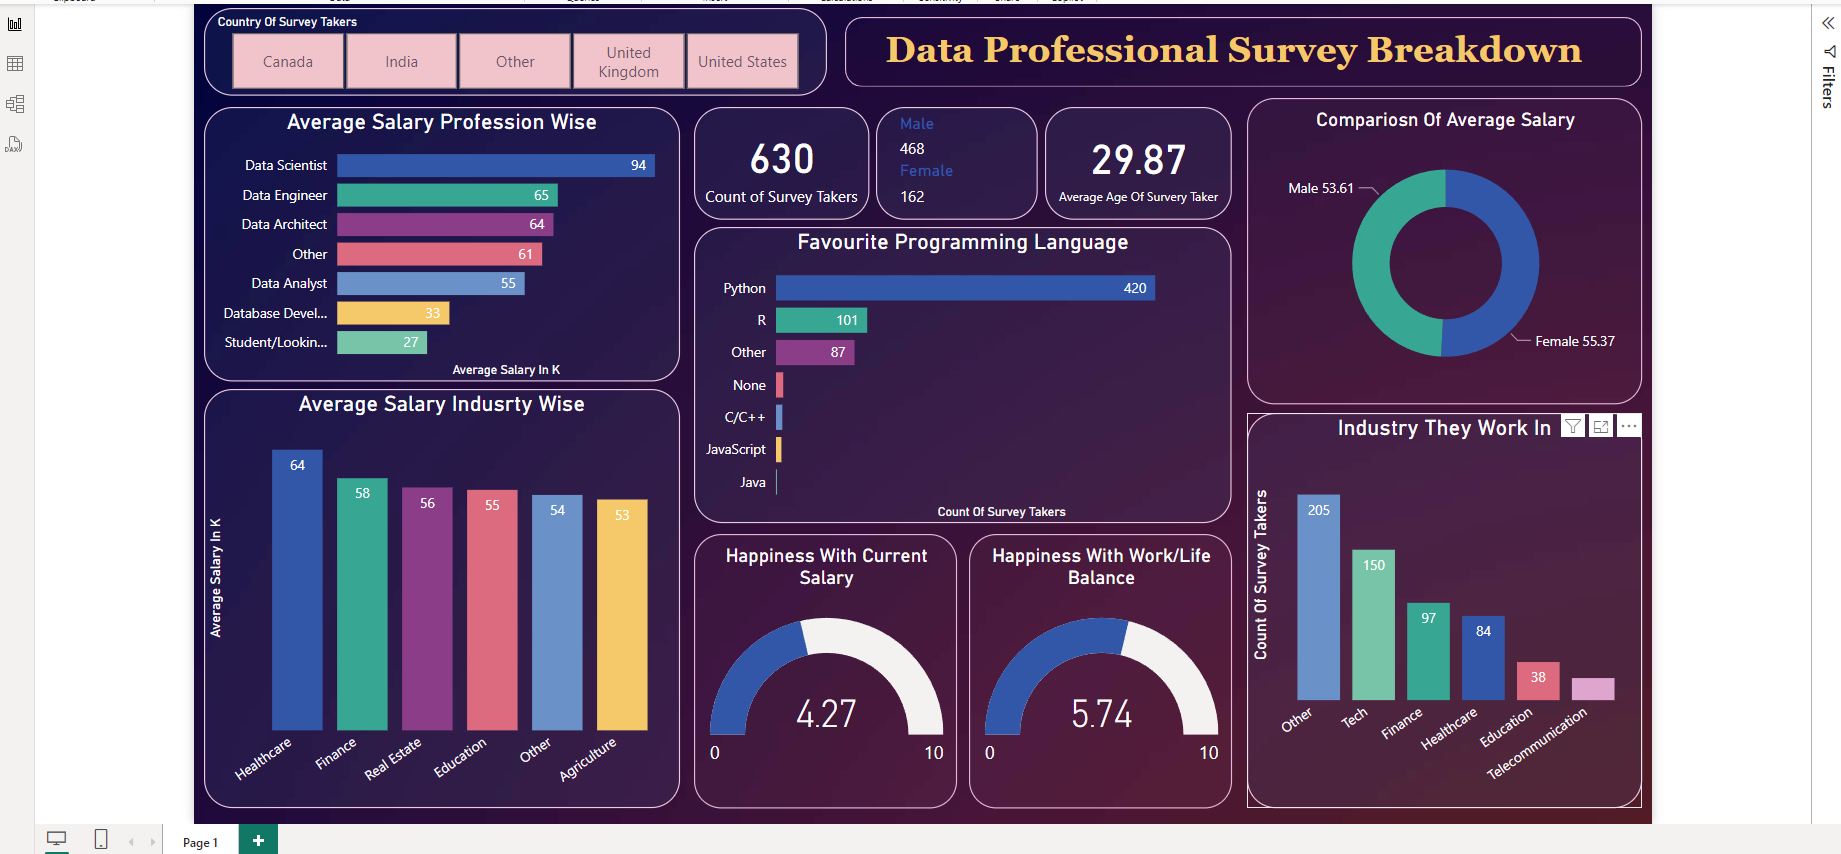

This screenshot's page, from the dashboard's own definition file:
{"tool":"powerbi","page":{"name":"Page 1","canvas":[1280,720],"ordinal":0},"visuals":[{"type":"textbox","box":[592.3,16.3,641.1,49.9],"z":0},{"type":"shape","box":[571.6,11.4,699.8,61.5],"z":1000},{"type":"card","fields":{"Values":["CountNonNull(Data Professional Survey.Unique ID)"]},"box":[439,90.4,153.7,99.2],"z":2000},{"type":"card","fields":{"Values":["Avg(Data Professional Survey.Q10 - Current Age)"]},"box":[747.2,90.4,164.2,99.2],"z":3000},{"type":"barChart","title":"Average Salary Profession Wise","fields":{"Category":["Data Professional Survey.Q1 - Which Title Best Fits your Current Role?"],"Y":["Avg(Data Professional Survey.Average Salary)"],"Series":["Data Professional Survey.Q1 - Which Title Best Fits your Current Role?"]},"box":[8.7,90,417.6,240.8],"z":4000},{"type":"barChart","title":"Favourite Programming Language","fields":{"Category":["Data Professional Survey.Q5 - Favorite Programming Language"],"Y":["CountNonNull(Data Professional Survey.Unique ID)"],"Series":["Data Professional Survey.Q5 - Favorite Programming Language"]},"box":[439,195.8,472.4,259.9],"z":5000},{"type":"slicer","fields":{"Values":["Data Professional Survey.Q11 - Which Country do you live in?"]},"box":[8.7,3.3,546.7,77],"z":6000},{"type":"gauge","title":"Happiness With Current Salary","fields":{"Y":["Avg(Data Professional Survey.Q6 - How Happy are you in your Current Position with the following? (Salary))2"],"MinValue":["Min(Data Professional Survey.Q6 - How Happy are you in your Current Position with the following? (Salary))"],"MaxValue":["Max(Data Professional Survey.Q6 - How Happy are you in your Current Position with the following? (Salary))"]},"box":[439.3,465.4,231.1,240.8],"z":7000},{"type":"gauge","title":"Happiness With Work/Life Balance","fields":{"Y":["Avg(Data Professional Survey.Q6 - How Happy are you in your Current Position with the following? (Work/Life Balance))"],"MinValue":["Min(Data Professional Survey.Q6 - How Happy are you in your Current Position with the following? (Work/Life Balance))"],"MaxValue":["Max(Data Professional Survey.Q6 - How Happy are you in your Current Position with the following? (Work/Life Balance))"],"TargetValue":["Sum(Data Professional Survey.Q6 - How Happy are you in your Current Position with the following? (Work/Life Balance))"]},"box":[680.1,465.4,231.1,240.8],"z":8000},{"type":"multiRowCard","fields":{"Values":["Data Professional Survey.Unique ID","Data Professional Survey.Q9 - Male/Female?"]},"box":[598.8,90.4,142.2,99.2],"z":9000},{"type":"columnChart","title":"Industry They Work In","fields":{"Category":["Data Professional Survey.Q4 - What Industry do you work in?"],"Y":["CountNonNull(Data Professional Survey.Unique ID)"],"Series":["Data Professional Survey.Q4 - What Industry do you work in?"]},"box":[924.2,359.1,347.1,347.1],"z":10000},{"type":"donutChart","title":"Compariosn Of Average Salary","fields":{"Y":["Avg(Data Professional Survey.Average Salary)"],"Category":["Data Professional Survey.Q9 - Male/Female?"]},"box":[924.2,82.4,347.1,269],"z":11000},{"type":"columnChart","title":"Average Salary Indusrty Wise","fields":{"Category":["Data Professional Survey.Q4 - What Industry do you work in?"],"Y":["Avg(Data Professional Survey.Average Salary)"],"Series":["Data Professional Survey.Q4 - What Industry do you work in?"]},"box":[8.7,338.4,417.6,367.7],"z":12000}]}

Visuals, with their boxes in screenshot pixels (x1, y1, x2, y2):
textbox: 870, 9, 1619, 68
shape: 846, 4, 1663, 76
card - CountNonNull(Data Professional Survey.Unique ID): 691, 96, 870, 212
card - Avg(Data Professional Survey.Q10 - Current Age): 1051, 96, 1243, 212
"Average Salary Profession Wise" barChart: 188, 96, 676, 377
"Favourite Programming Language" barChart: 691, 219, 1243, 523
slicer - Data Professional Survey.Q11 - Which Country do you live in?: 188, 0, 827, 84
"Happiness With Current Salary" gauge: 691, 534, 961, 816
"Happiness With Work/Life Balance" gauge: 972, 534, 1242, 816
multiRowCard - Data Professional Survey.Unique ID x Data Professional Survey.Q9 - Male/Female?: 877, 96, 1044, 212
"Industry They Work In" columnChart: 1258, 410, 1663, 816
"Compariosn Of Average Salary" donutChart: 1258, 87, 1663, 401
"Average Salary Indusrty Wise" columnChart: 188, 386, 676, 816
